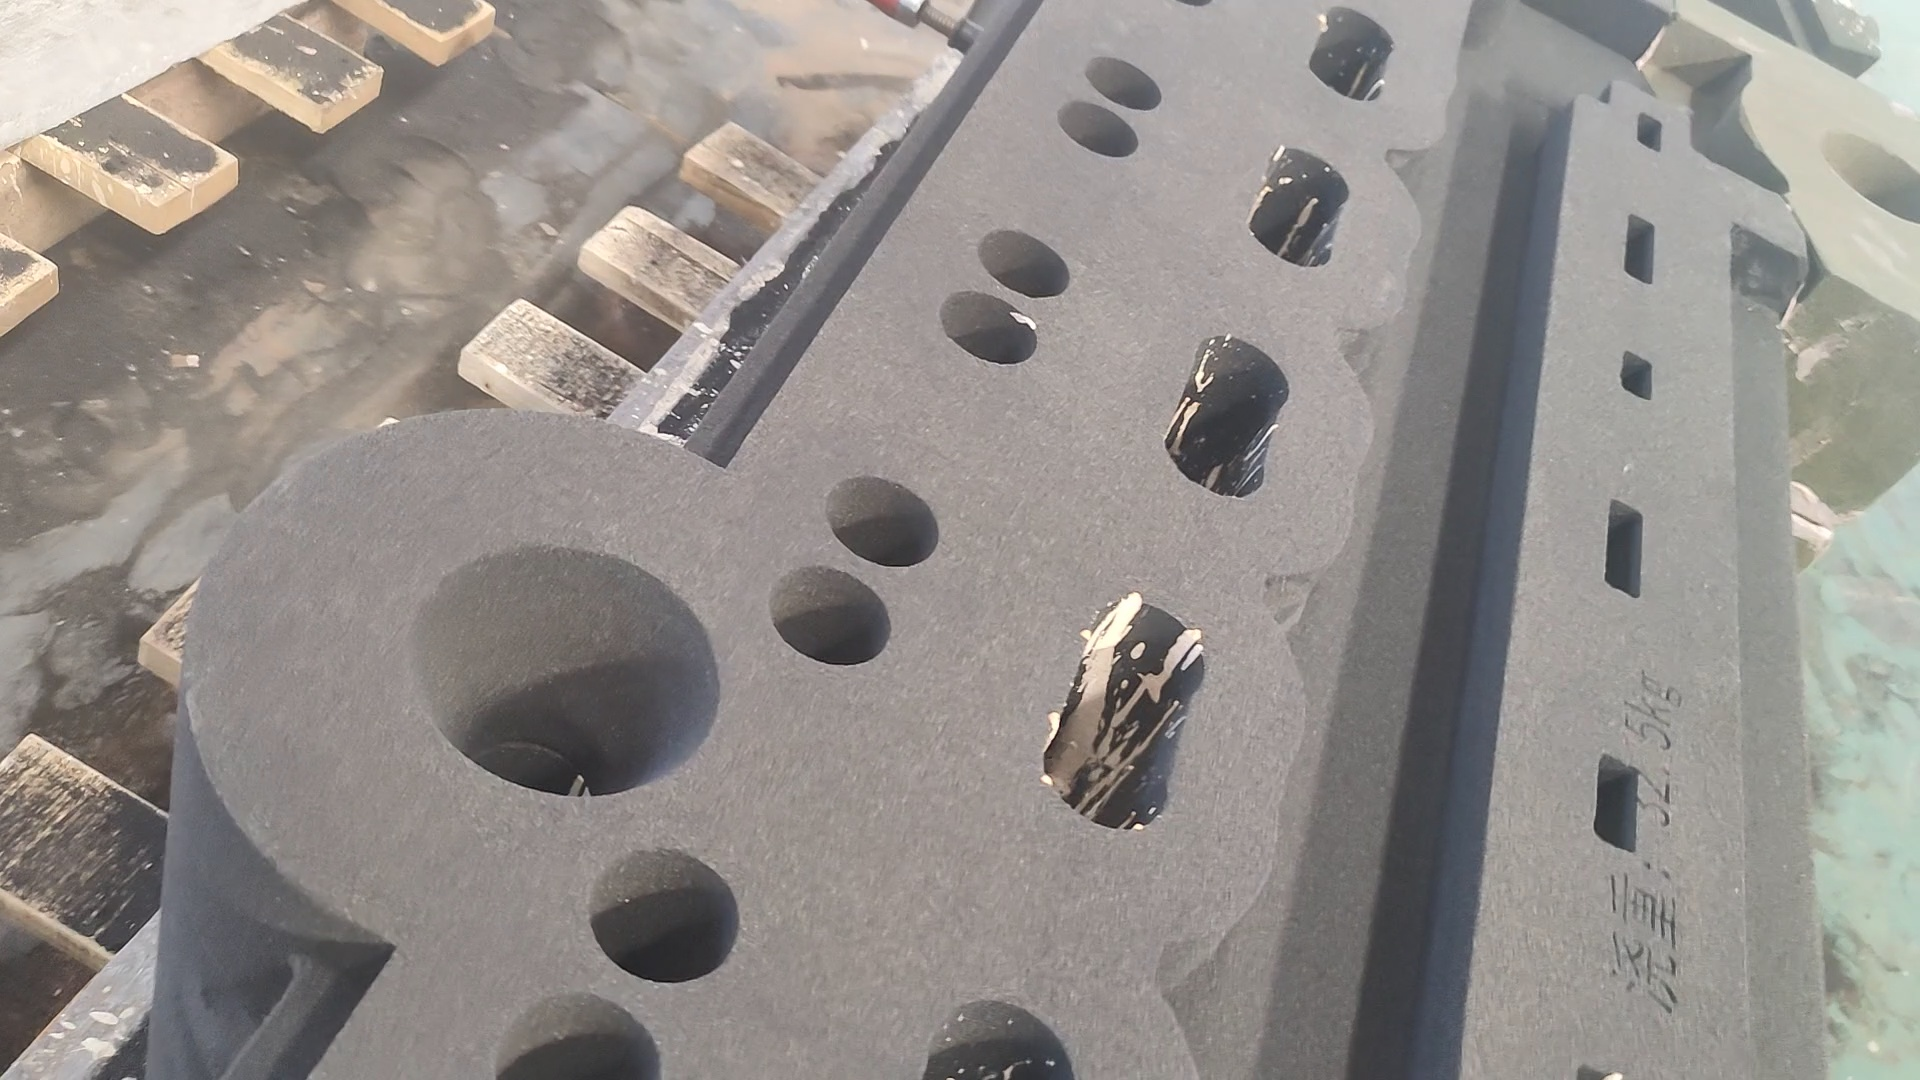pouring hole: (404, 547, 721, 795), (1820, 127, 1920, 223)
